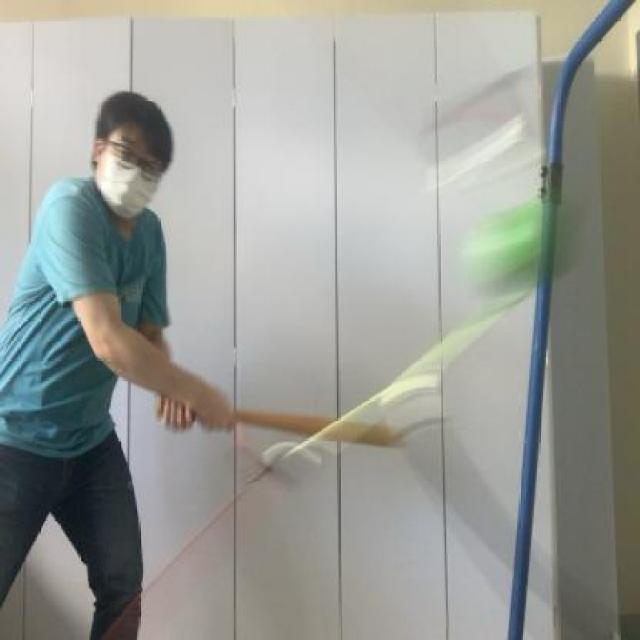baseball: (452, 195, 592, 302)
